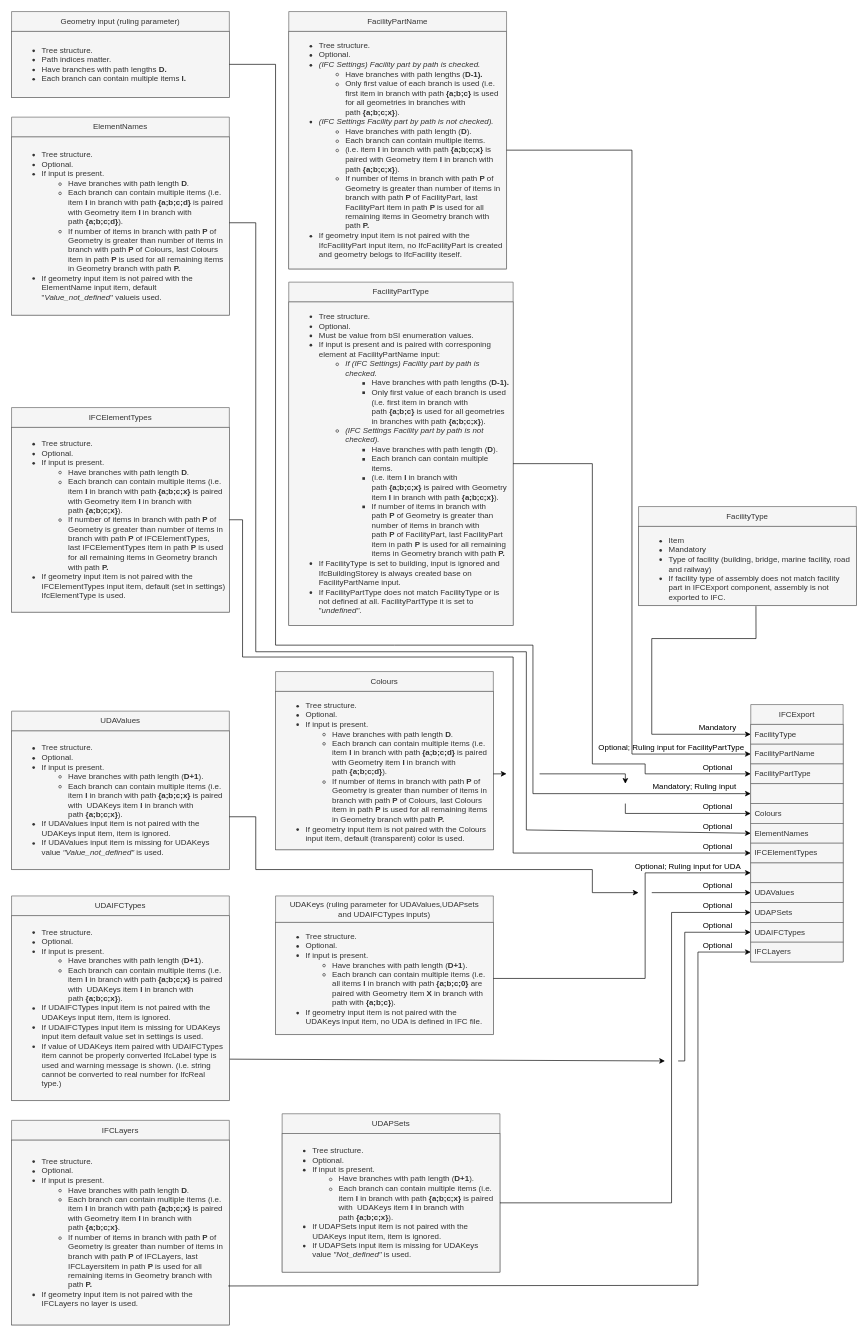
This 868x1337 diagram has some shape labels left out. Each missing label, with the centre of its shape:
"Geometry" belongs at point 796,793.
"UDAKeys" belongs at point 796,872.
